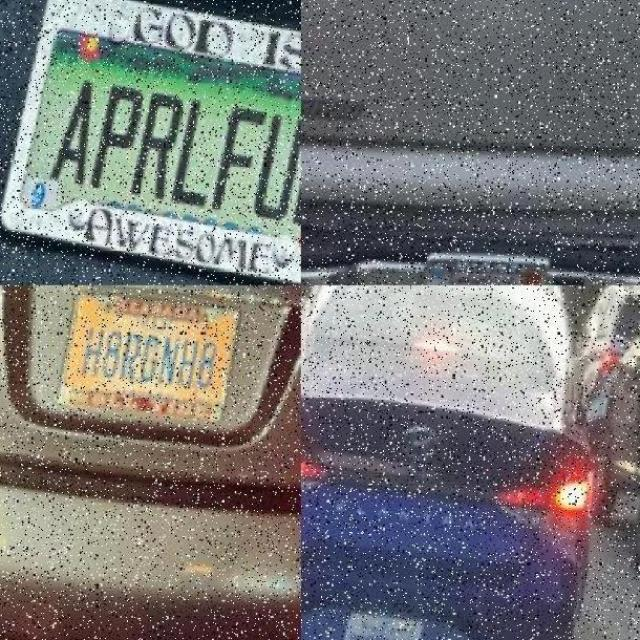license-plate: (40, 3, 294, 248), (27, 288, 280, 452)
